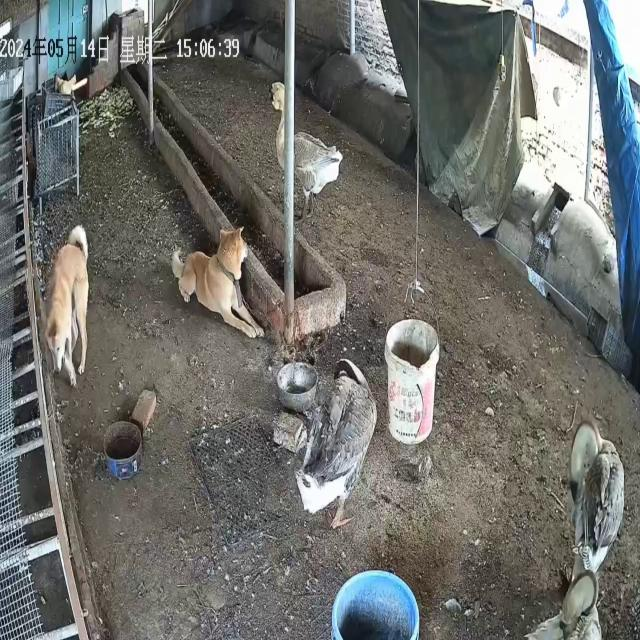dog: (172, 226, 266, 341), (45, 225, 90, 390)
